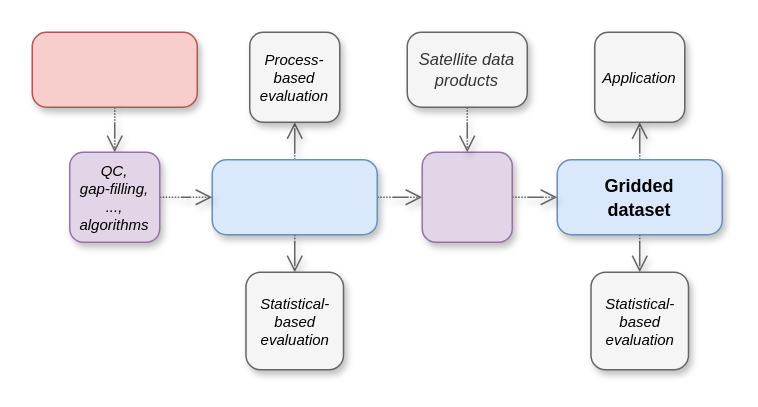
This 758x407 diagram has some shape labels left out. The centre of each missing label's shape, as x and y in pixels:
"analogues, ML, ..., algorithms" belongs at point (468, 199).
"Raw precipitation data collection" belongs at point (115, 71).
"Serially complete station dataset" belongs at point (295, 198).
